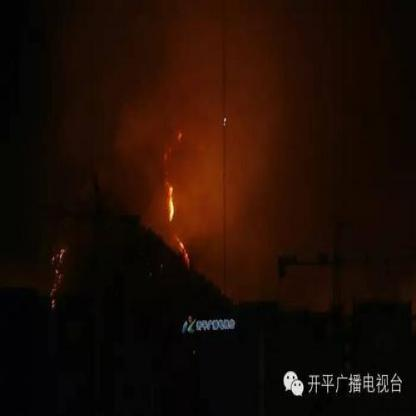fire: (161, 129, 192, 263), (46, 245, 67, 309)
